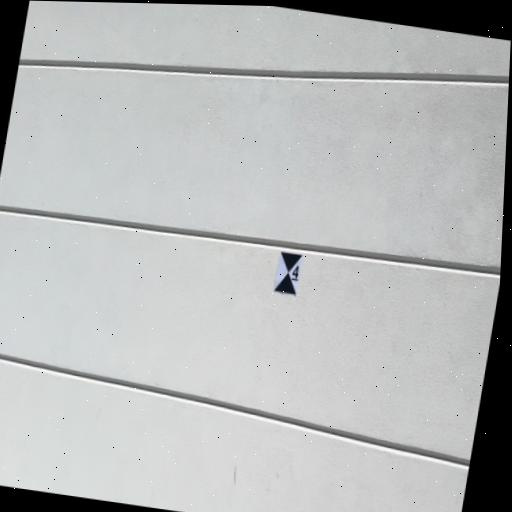target4: (274, 250, 304, 294)
